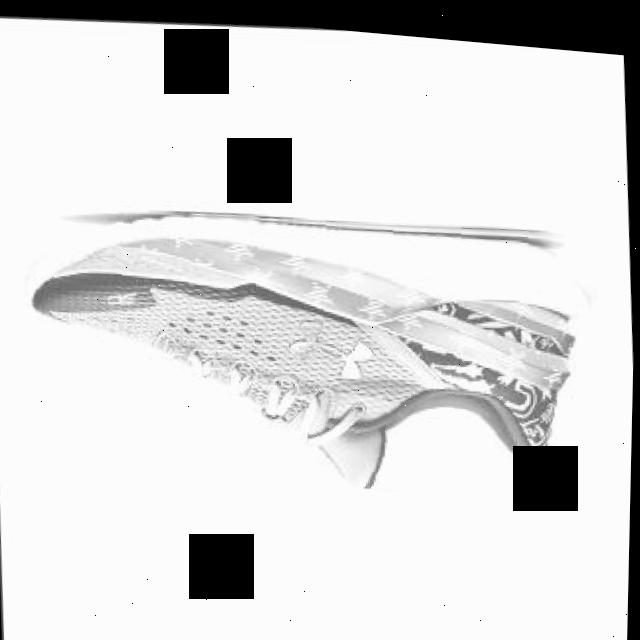shoe: (18, 175, 612, 516)
